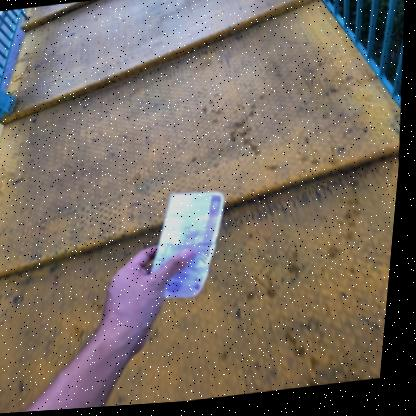one_hundred-back-vef: (148, 190, 233, 305)
